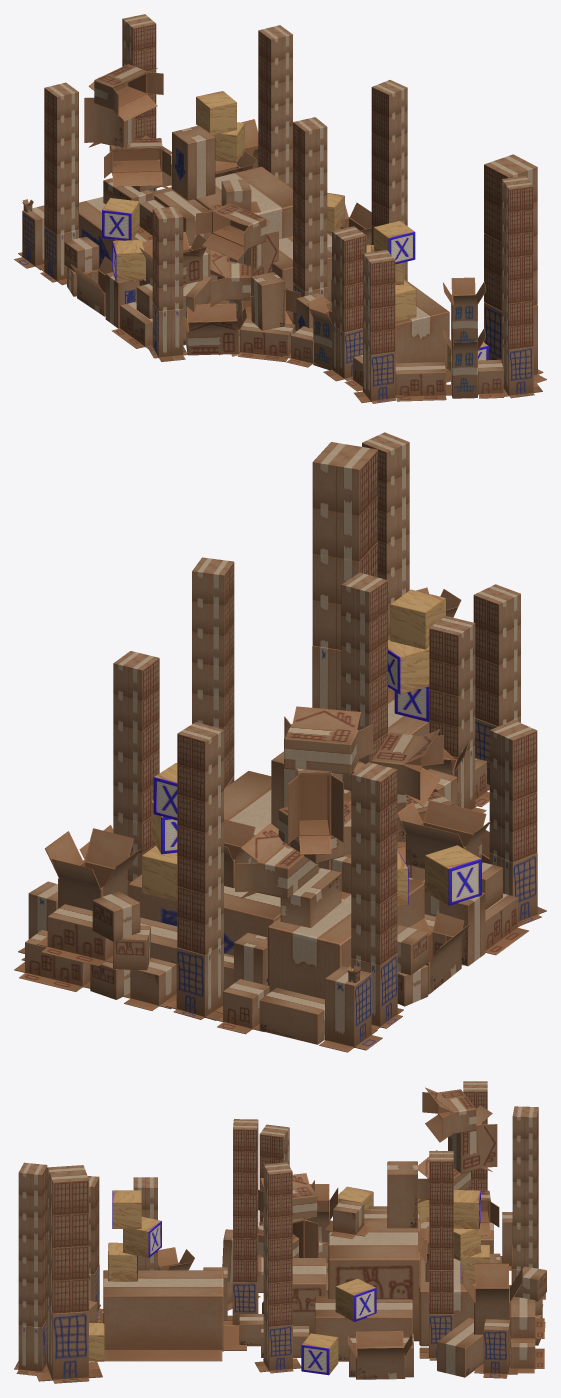
File: S1_revised.fbx
3 renders of one model, top to bottom at view 1: azimuth 30°, elevation 25°; view 2: azimuth 150°, elevation 25°; view 3: azimuth 270°, elevation 25°, orthographic. The views are drawn at different scales.
Parts seen in each view (by area): view 1: Section_1_Merged; view 2: Section_1_Merged; view 3: Section_1_Merged.
Boxes of the visible parts, left/top/right/bottom form: Section_1_Merged: left=14, top=14, right=546, bottom=403; Section_1_Merged: left=14, top=432, right=546, bottom=1052; Section_1_Merged: left=14, top=1081, right=546, bottom=1383.
Size of the model in its own units: 12596 by 9551 by 21675.
